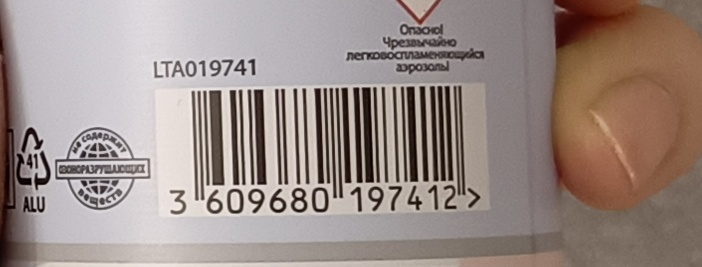1d: (191, 83, 471, 184)
